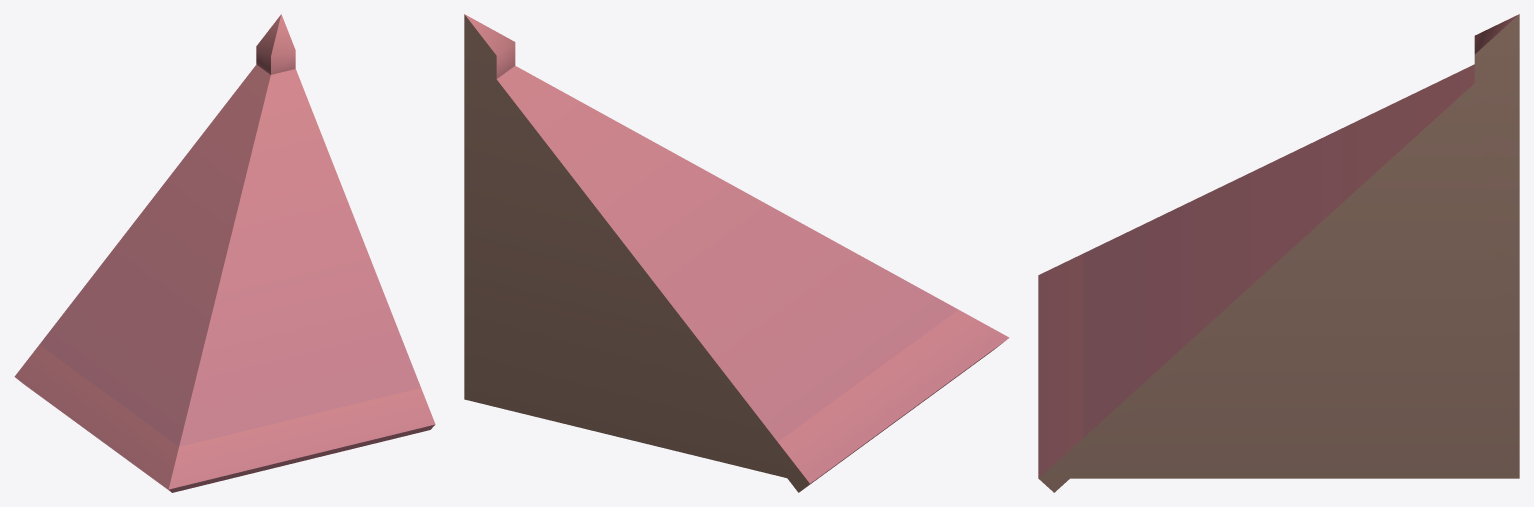
The model's file is roof-high-corner.glb.
The picture shows the model from 3 angles, left to right: view 1: azimuth 30°, elevation 25°; view 2: azimuth 150°, elevation 25°; view 3: azimuth 270°, elevation 25°; orthographic projection. The views are drawn at different scales.
Visible parts, largest first — view 1: roof-high-corner; view 2: roof-high-corner; view 3: roof-high-corner.
Boxes of the visible parts, bbox=[...] form: roof-high-corner: bbox=[14, 14, 435, 492]; roof-high-corner: bbox=[464, 14, 1009, 492]; roof-high-corner: bbox=[1038, 14, 1519, 492].
Bounding box in the file's own units: 1.07 × 1.18 × 1.07.
